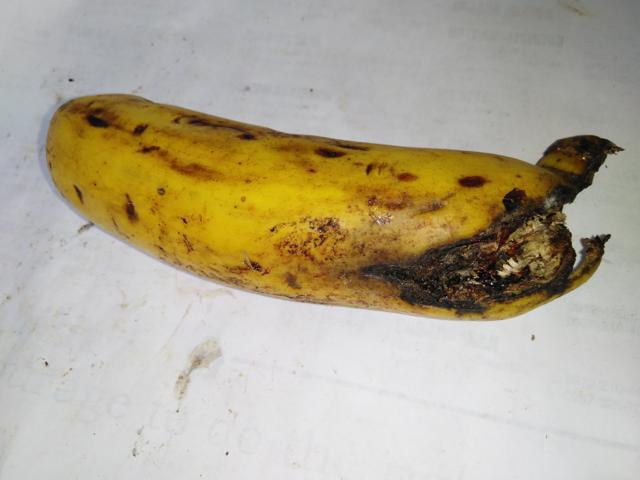ripe: (19, 81, 398, 325)
rotten: (352, 138, 598, 341)
